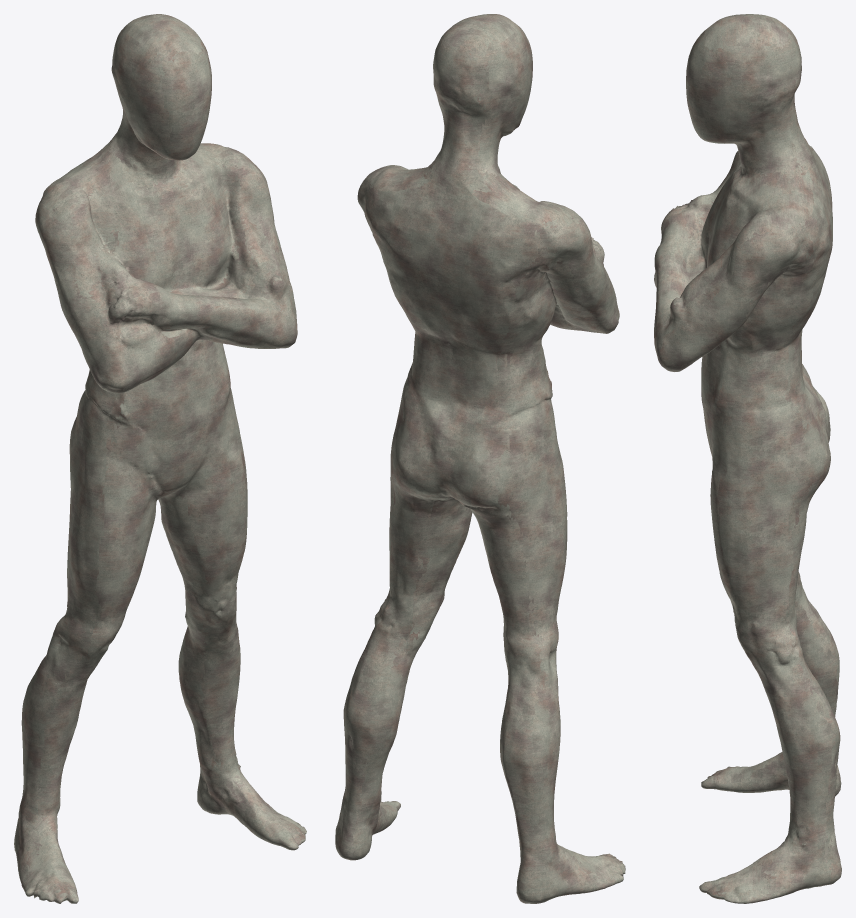
The model's file is humanoid.glb.
3 views of the same model, side by side, from view 1: azimuth 30°, elevation 25°; view 2: azimuth 150°, elevation 25°; view 3: azimuth 270°, elevation 25° (orthographic). The views are drawn at different scales.
Parts seen in each view (by area): view 1: Mesh1; view 2: Mesh1; view 3: Mesh1.
Part boxes in pixels (bbox=[...]): Mesh1: bbox=[14, 14, 306, 903]; Mesh1: bbox=[335, 14, 625, 903]; Mesh1: bbox=[654, 14, 841, 903].
Bounding box in the file's own units: 0.6895 × 2 × 0.4147.
1 material, 1 textured.
